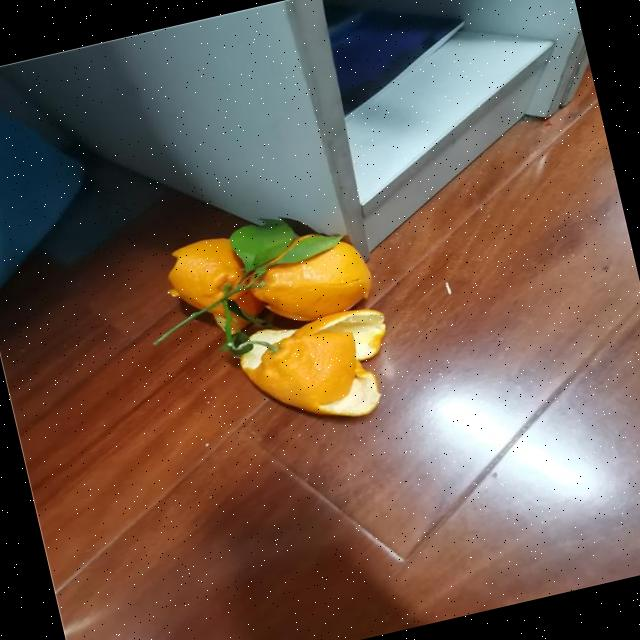orange-peel: (232, 306, 385, 440), (241, 222, 378, 332), (158, 227, 268, 343)
